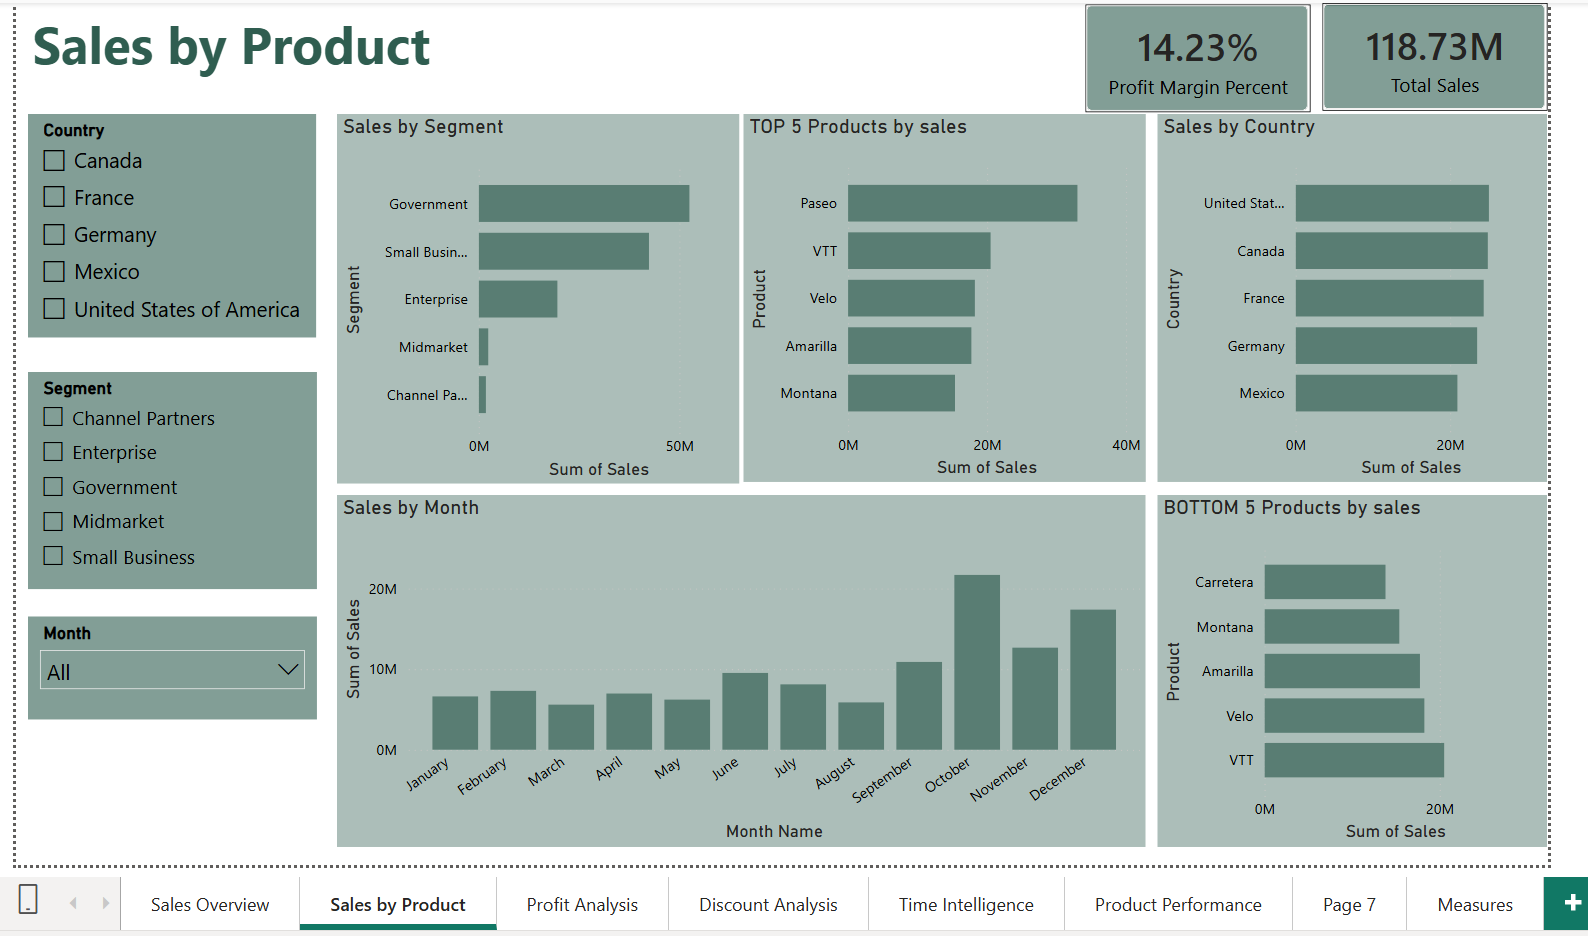

The page's visual inventory and layout, read from the dashboard file:
{"tool":"powerbi","page":{"name":"Sales by Product","canvas":[1280,720],"ordinal":1},"visuals":[{"type":"textbox","box":[9.1,0,355.8,92.4],"z":0},{"type":"clusteredBarChart","title":"Sales by Country","fields":{"Category":["Sheet1.Country"],"Y":["Sum(Sheet1.Sales)"]},"box":[953.9,92.4,325.6,307.4],"z":1000},{"type":"clusteredBarChart","title":"Sales by Segment","fields":{"Category":["Sheet1.Segment"],"Y":["Sum(Sheet1.Sales)"]},"box":[268,92.4,336.2,308.9],"z":2000},{"type":"lineStackedColumnComboChart","title":"Sales by Month","fields":{"Category":["Sheet1.Month Name"],"Y":["Sum(Sheet1.Sales)"]},"box":[268,410.3,675.3,293.8],"z":3000},{"type":"barChart","title":"TOP 5 Products by sales","fields":{"Category":["Sheet1.Product"],"Y":["Sum(Sheet1.Sales)"]},"box":[607.2,92.4,336.2,307.4],"z":4000},{"type":"barChart","title":"BOTTOM 5 Products by sales","fields":{"Category":["Sheet1.Product"],"Y":["Sum(Sheet1.Sales)"]},"box":[953.4,410.5,325.6,293.8],"z":5000},{"type":"cardVisual","fields":{"Data":["Sum(Sheet1.Sales)"]},"box":[1091.7,0,187.8,90.2],"z":6000},{"type":"slicer","fields":{"Values":["Sheet1.Month Name"]},"box":[9.6,512.3,241.6,85.9],"z":7000},{"type":"slicer","fields":{"Values":["Sheet1.Segment"]},"box":[9.6,308.1,241.6,181.6],"z":8000},{"type":"slicer","fields":{"Values":["Sheet1.Country"]},"box":[9.6,92.4,240.7,186.8],"z":9000},{"type":"cardVisual","fields":{"Data":["Sheet1.Profit Margin Percent"]},"box":[893.4,1.5,187.8,90.2],"z":10000}]}

Visuals, with their boxes on the page's 1280x720 design canvas (x1, y1, x2, y2). These are canvas units, not pixel positions in the 1588x936 screenshot, which may show the page scaled, cropped or inside an application window:
textbox: locate(9, 0, 365, 92)
"Sales by Country" clusteredBarChart: locate(954, 92, 1280, 400)
"Sales by Segment" clusteredBarChart: locate(268, 92, 604, 401)
"Sales by Month" lineStackedColumnComboChart: locate(268, 410, 943, 704)
"TOP 5 Products by sales" barChart: locate(607, 92, 943, 400)
"BOTTOM 5 Products by sales" barChart: locate(953, 410, 1279, 704)
cardVisual - Sum(Sheet1.Sales): locate(1092, 0, 1280, 90)
slicer - Sheet1.Month Name: locate(10, 512, 251, 598)
slicer - Sheet1.Segment: locate(10, 308, 251, 490)
slicer - Sheet1.Country: locate(10, 92, 250, 279)
cardVisual - Sheet1.Profit Margin Percent: locate(893, 2, 1081, 92)
